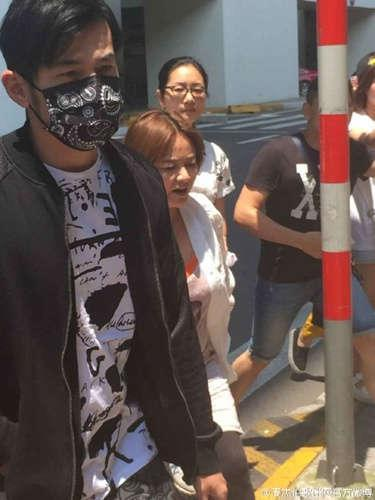NONE: (155, 151, 198, 204), (166, 80, 209, 125)
OK: (41, 46, 130, 135)
